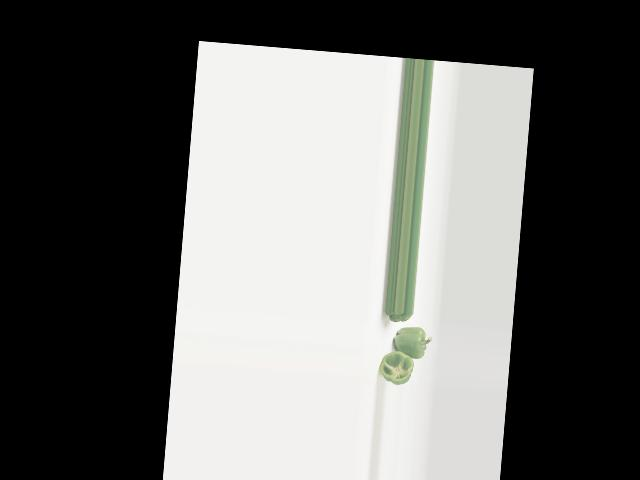bell_pepper: (376, 347, 418, 387)
